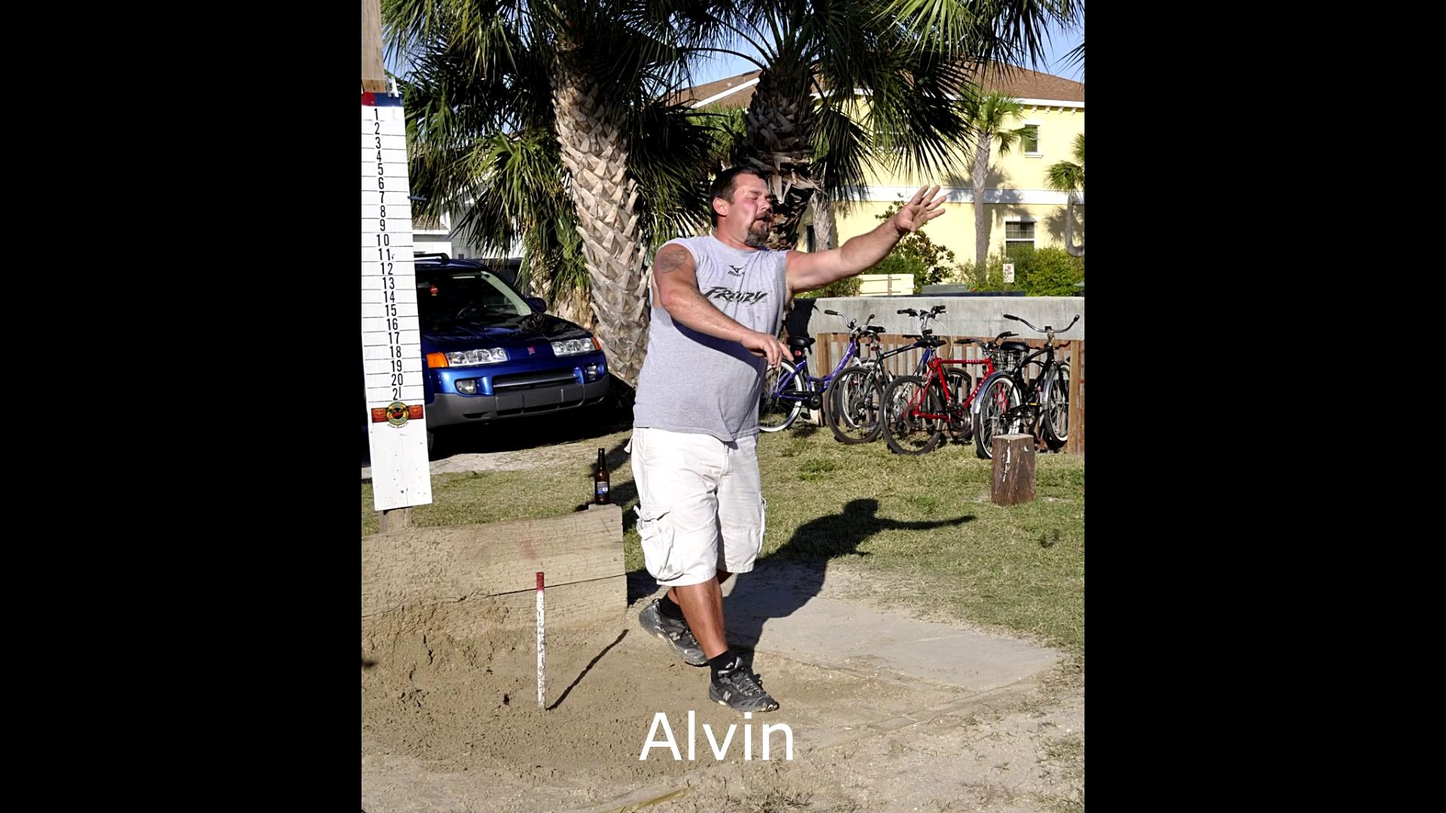victim: (613, 166, 952, 723)
